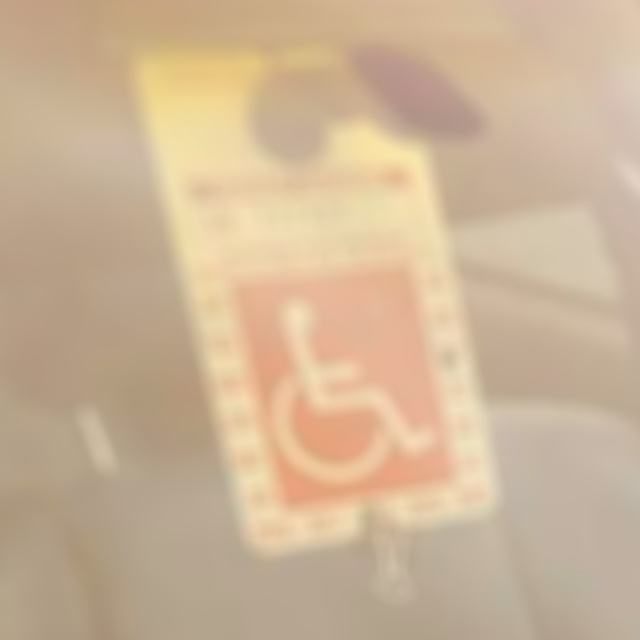ISA: (258, 299, 441, 481)
